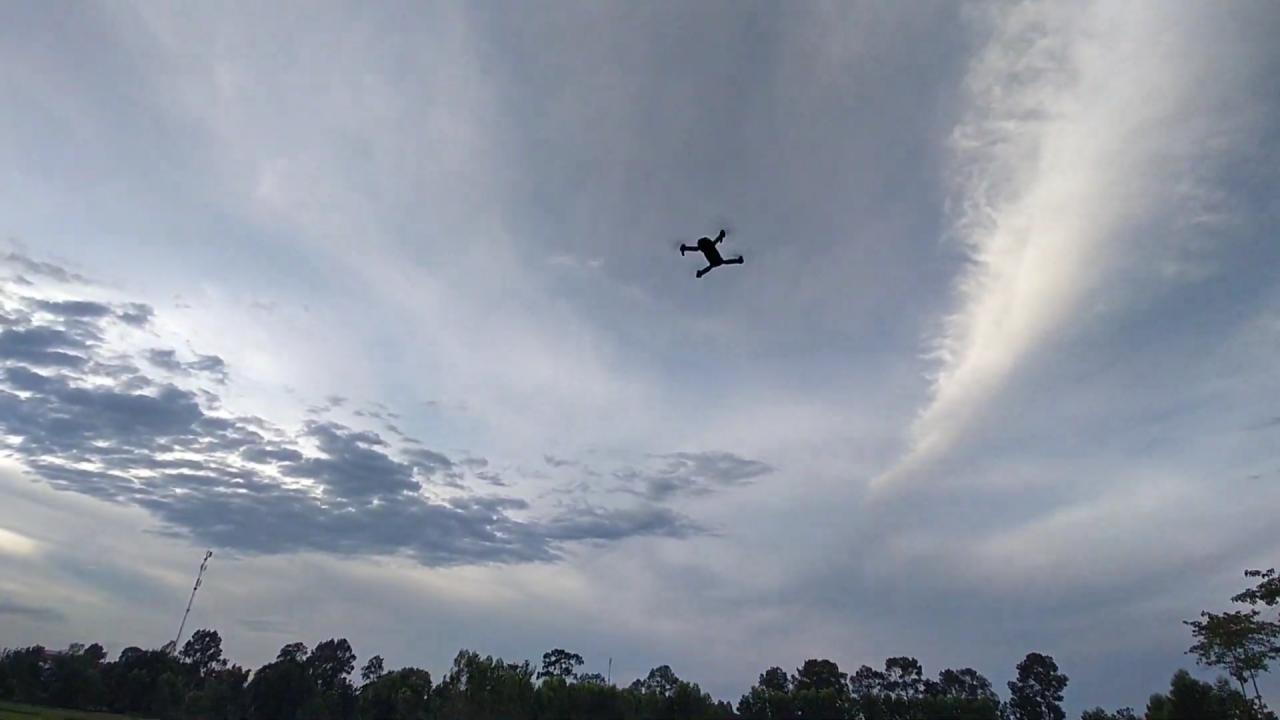Drone: (662, 215, 758, 289)
